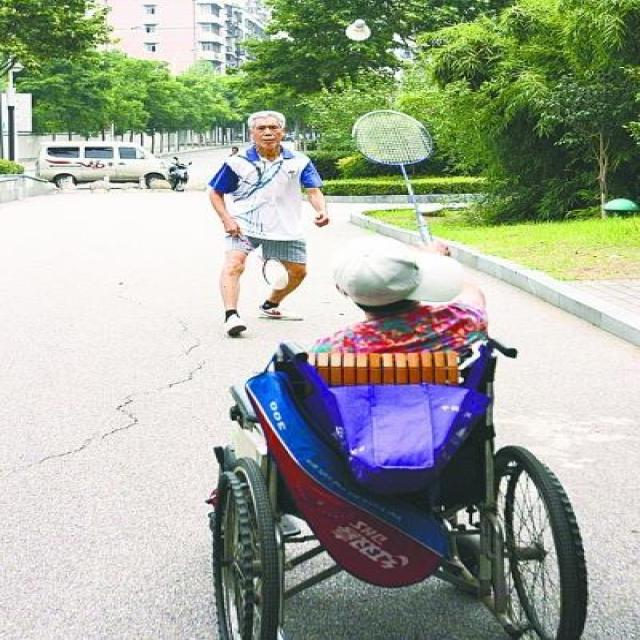wheelchairs: (193, 327, 609, 640)
